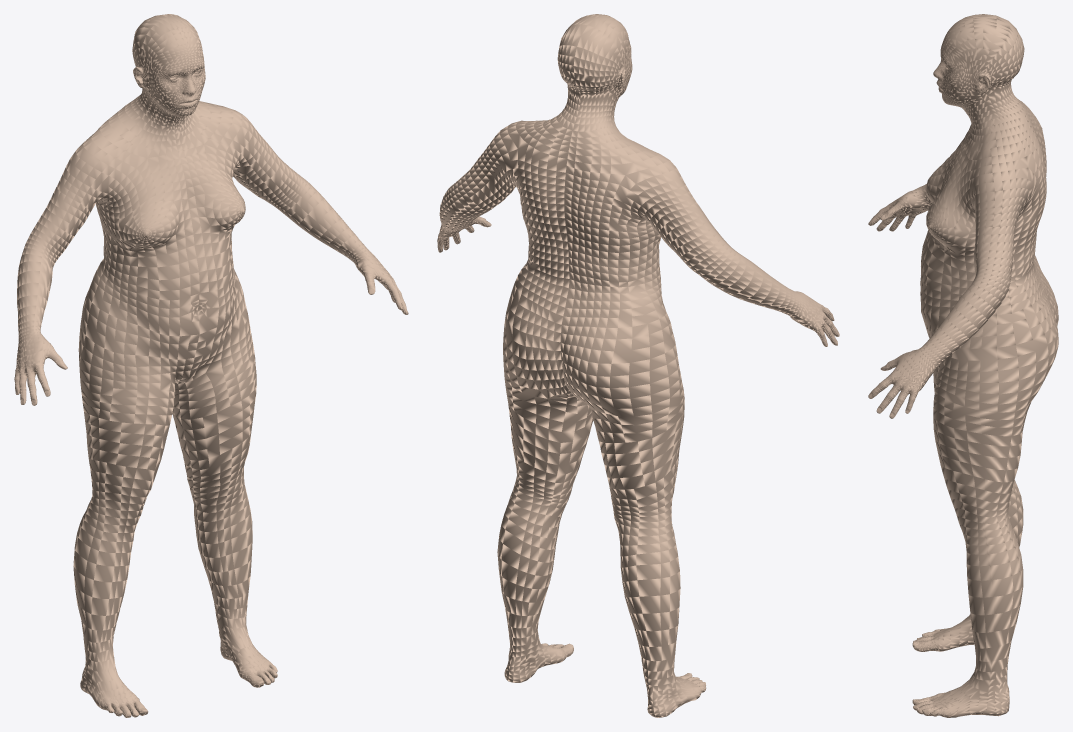
Rendered from female_high_low.glb.
3 views of the same model, side by side, from view 1: azimuth 30°, elevation 25°; view 2: azimuth 150°, elevation 25°; view 3: azimuth 270°, elevation 25° (orthographic). The views are drawn at different scales.
Parts seen in each view (by area): view 1: female_high_lowMesh; view 2: female_high_lowMesh; view 3: female_high_lowMesh.
Part boxes in pixels (x1,y1,x2,y2): female_high_lowMesh: [14, 14, 408, 717]; female_high_lowMesh: [437, 14, 839, 717]; female_high_lowMesh: [868, 14, 1058, 717].
Bounding box in the file's own units: 9.81 × 16.06 × 4.19.
